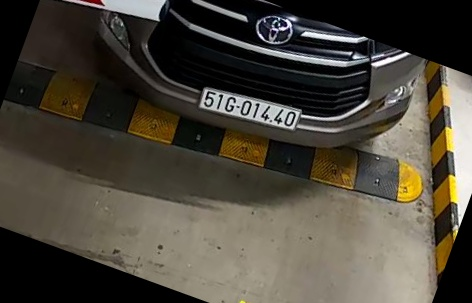plate: (197, 82, 301, 140)
